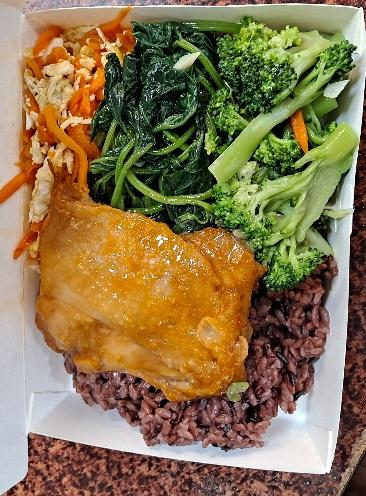big grilled chicken leg: (0, 0, 362, 491)
braised fish: (96, 274, 333, 457)
braised fish fillet: (222, 26, 352, 240), (102, 18, 211, 221), (18, 20, 102, 194)
braised pork: (35, 184, 247, 404)
